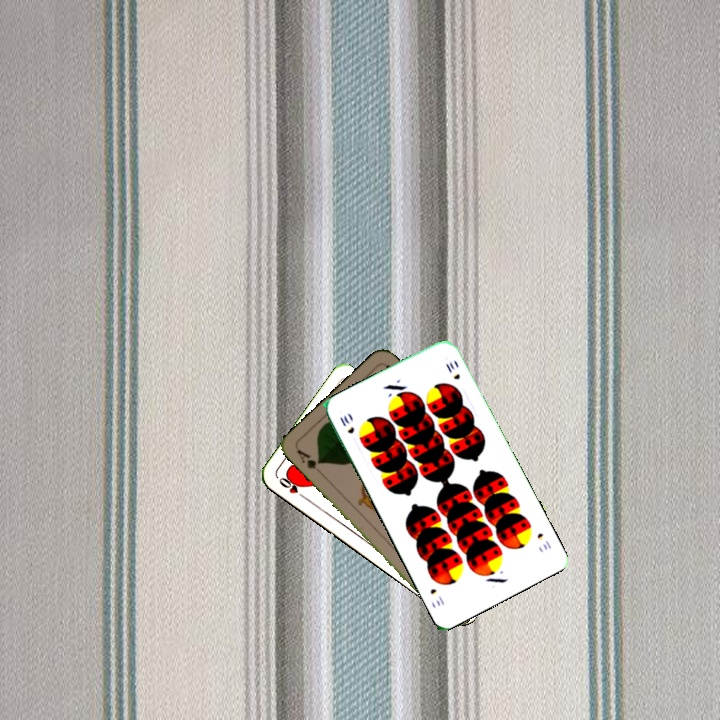GA: (292, 445, 325, 477)
HO: (275, 473, 309, 502)
S10: (335, 411, 357, 436), (533, 529, 554, 553)
